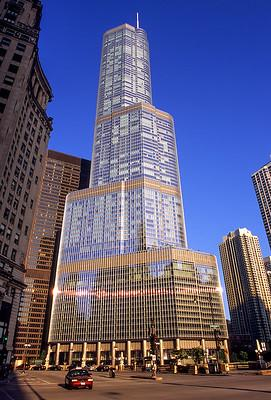building: (48, 21, 232, 378), (216, 224, 270, 382)
